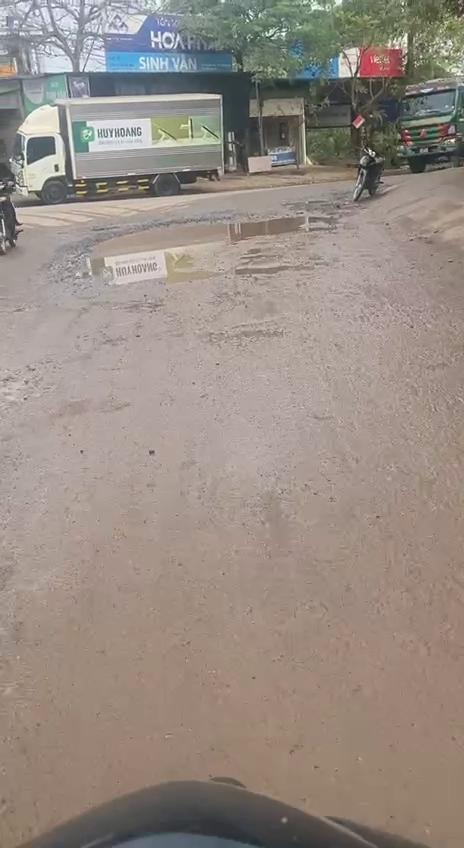pothole: (42, 210, 336, 286)
